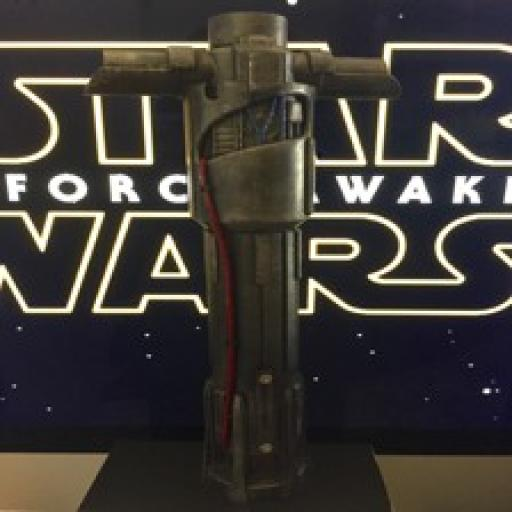lightsaber: (96, 7, 402, 512)
